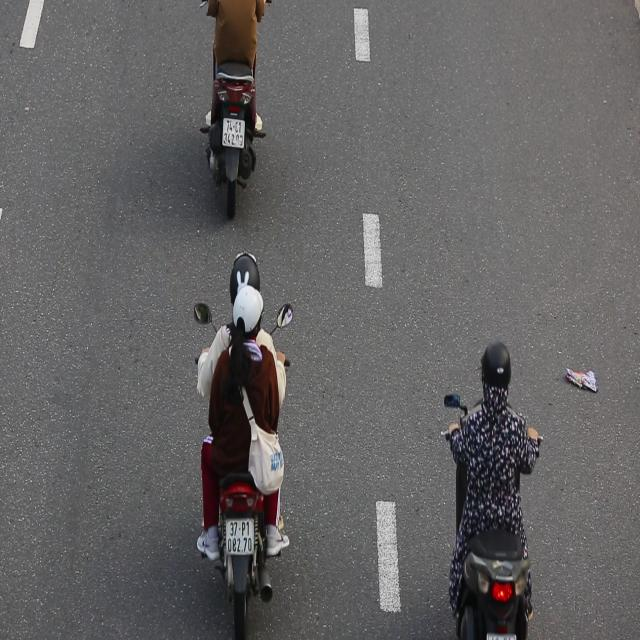motorbike: (185, 237, 302, 640)
